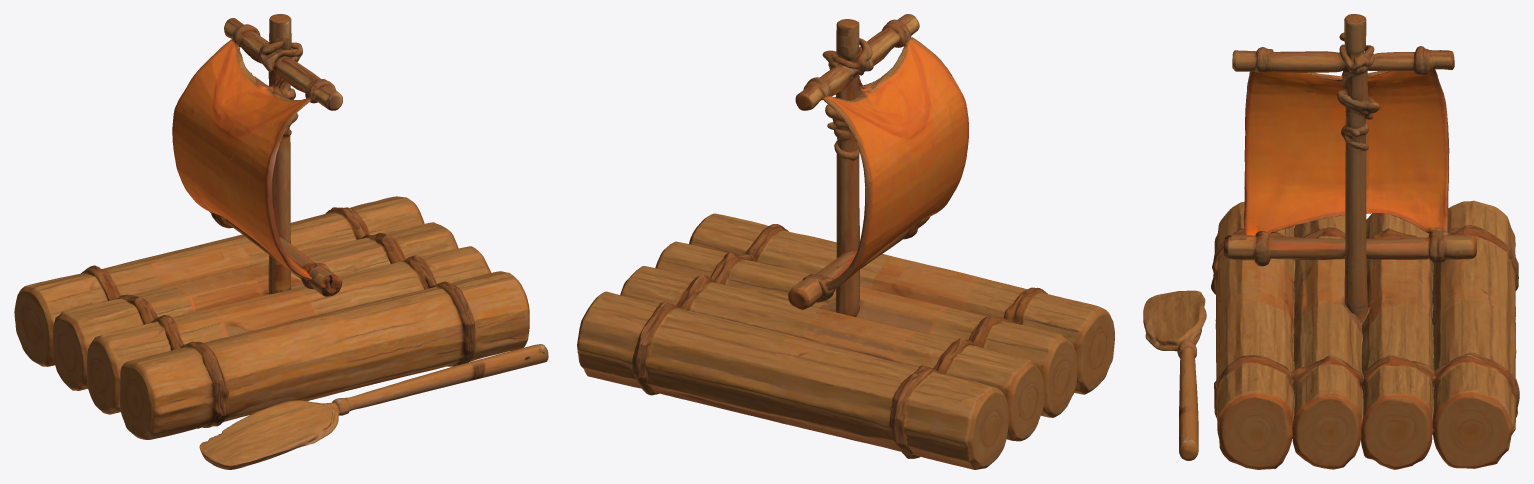
File: bateau.glb
3 views of the same model, side by side, from view 1: azimuth 30°, elevation 25°; view 2: azimuth 150°, elevation 25°; view 3: azimuth 270°, elevation 25° (orthographic). The views are drawn at different scales.
Bounding box in the file's own units: 2 × 1.88 × 1.63.
Materials: 1 (1 with a texture image).
